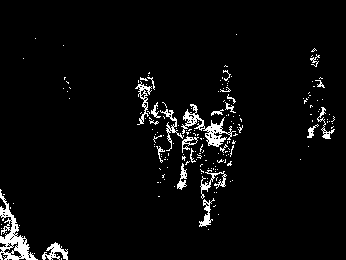person: (196, 109, 228, 227), (176, 103, 203, 189), (150, 99, 177, 183), (224, 94, 244, 166), (135, 74, 154, 124)
